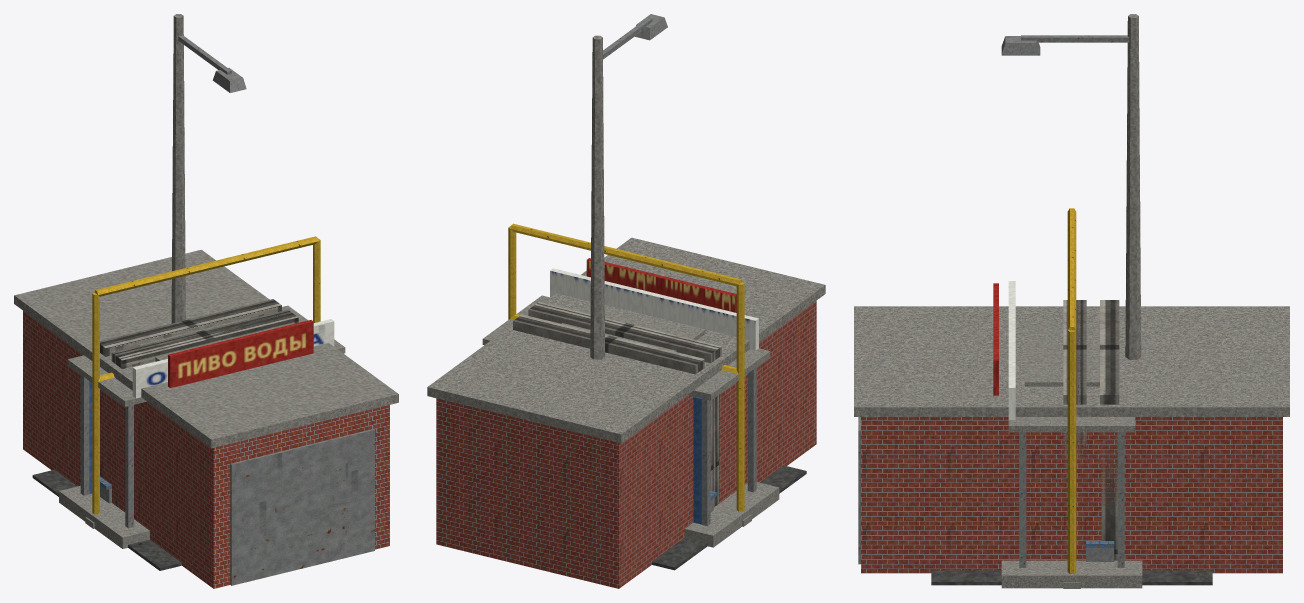
Rendered from PSX_PostSoviet_Yard.fbx.
3 renders of one model, left to right at view 1: azimuth 30°, elevation 25°; view 2: azimuth 150°, elevation 25°; view 3: azimuth 270°, elevation 25°, orthographic. The views are drawn at different scales.
Parts seen in each view (by area): view 1: Garage, BusStop, Kiosk, StreetLamp, GasPipe_Arch, PanelWall_Plain, PanelWall_Entrance, GroundTile_Asphalt, PanelWall_Window, PanelWall_Balcony; view 2: Garage, BusStop, StreetLamp, GasPipe_Arch, PanelWall_Entrance, PanelWall_Window, Kiosk, GroundTile_Asphalt, PanelWall_Plain; view 3: Garage, BusStop, PanelWall_Entrance, StreetLamp, GasPipe_Arch, GroundTile_Asphalt, PanelWall_Plain, PanelWall_Window, Kiosk.
Part boxes in pixels (box(x1,y1,x2,y2)): Garage: box(14, 249, 398, 588); BusStop: box(59, 305, 345, 548); Kiosk: box(168, 320, 313, 388); StreetLamp: box(171, 14, 246, 323); GasPipe_Arch: box(85, 236, 320, 528); PanelWall_Plain: box(114, 312, 298, 410); PanelWall_Entrance: box(100, 299, 280, 477); GroundTile_Asphalt: box(32, 469, 181, 570); PanelWall_Window: box(111, 309, 290, 507); PanelWall_Balcony: box(105, 305, 281, 356); Garage: box(427, 237, 825, 588); BusStop: box(482, 268, 779, 547); StreetLamp: box(590, 14, 667, 359); GasPipe_Arch: box(508, 223, 751, 526); PanelWall_Entrance: box(513, 302, 705, 374); PanelWall_Window: box(528, 304, 718, 505); Kiosk: box(586, 258, 736, 312); GroundTile_Asphalt: box(652, 465, 806, 570); PanelWall_Plain: box(537, 302, 721, 506); Garage: box(854, 306, 1289, 573); BusStop: box(1001, 281, 1142, 588); PanelWall_Entrance: box(1024, 300, 1119, 560); StreetLamp: box(1001, 14, 1141, 359); GasPipe_Arch: box(1063, 208, 1080, 588); GroundTile_Asphalt: box(931, 570, 1212, 585); PanelWall_Plain: box(1063, 300, 1080, 478); PanelWall_Window: box(1076, 300, 1086, 452); Kiosk: box(993, 283, 998, 395).
Size of the model in its own units: 4.25 by 8 by 6.2.
Materials: 18 (18 with a texture image).
